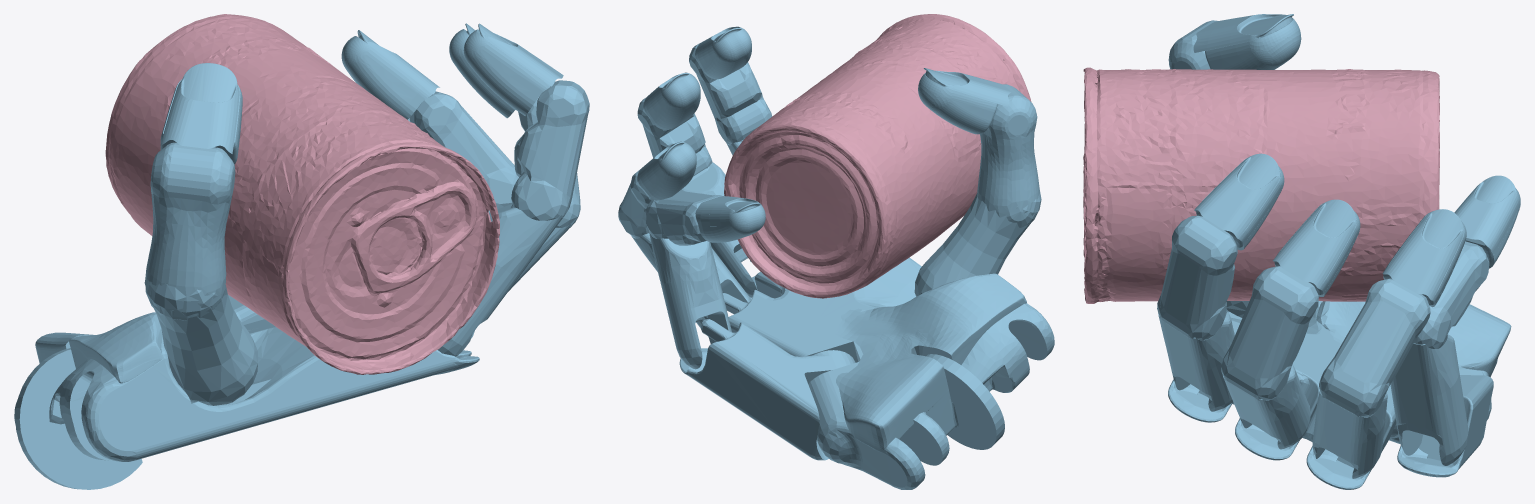
The picture shows the model from 3 angles, left to right: view 1: azimuth 30°, elevation 25°; view 2: azimuth 150°, elevation 25°; view 3: azimuth 270°, elevation 25°; orthographic projection. The views are drawn at different scales.
Visible parts, largest first — view 1: world; view 2: world; view 3: world.
Part boxes in pixels (left/top/right/bottom): world: left=14, top=14, right=589, bottom=489; world: left=618, top=14, right=1054, bottom=489; world: left=1083, top=14, right=1520, bottom=489.
Bounding box in the file's own units: 0.1581 × 0.1336 × 0.1249.
